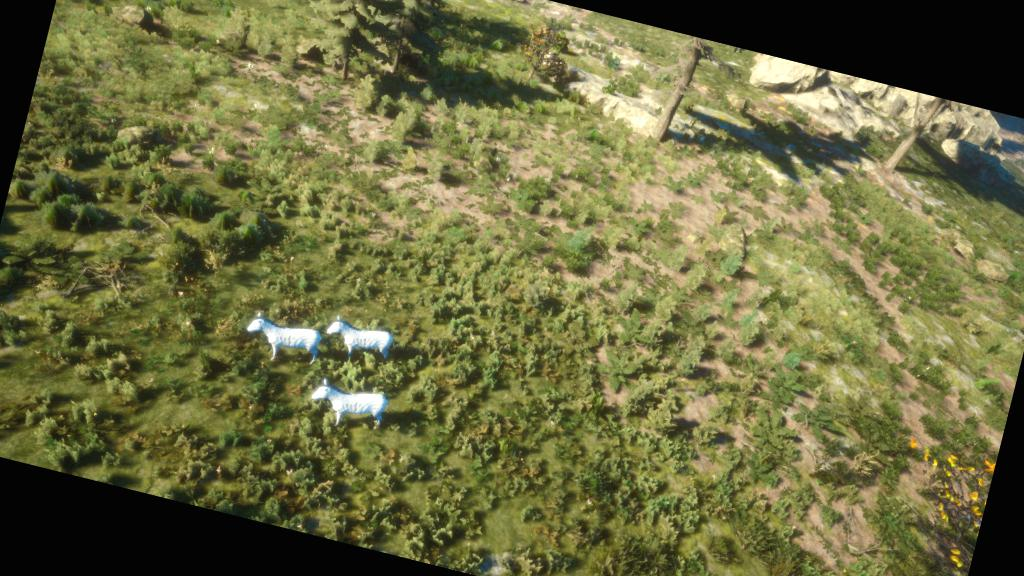zebra: (306, 375, 400, 438), (238, 310, 328, 371), (320, 314, 398, 366)
